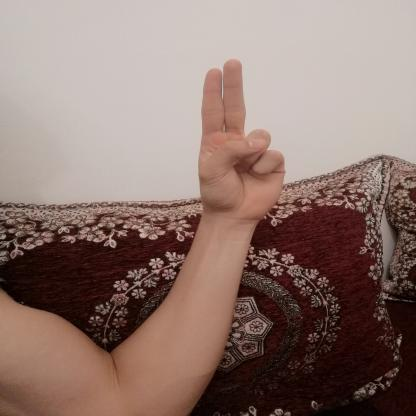TA: (180, 50, 300, 233)
